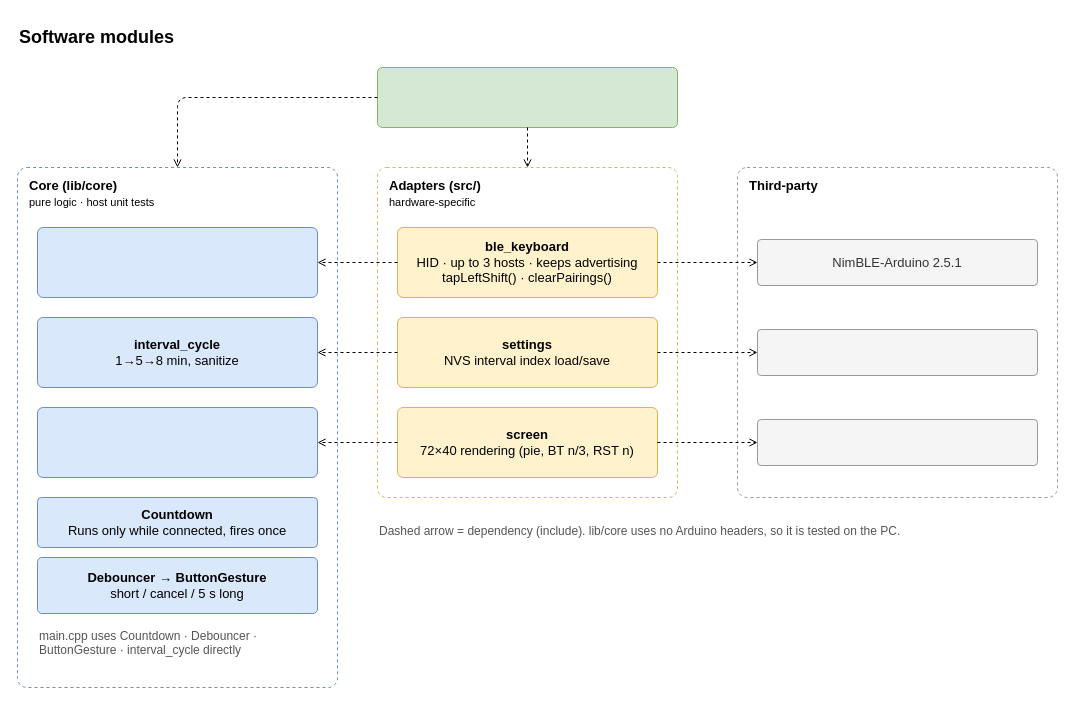
This 1075x705 diagram has some shape labels left out. Here are the shapes that lost their labels. From the top down, the centre of each, then its label:
At (527,97): "main.cpp (Application) wires setup() / loop() · event logging".
At (177,262): "HostSet · PendingLinks paired hosts (max 3) · 30 s pairing limit".
At (897,352): "Preferences (arduino-esp32 2.0.x)".
At (177,442): "view_math pie angle, M:SS, BT n/3".
At (897,442): "U8g2 2.36.18 + Wire".
